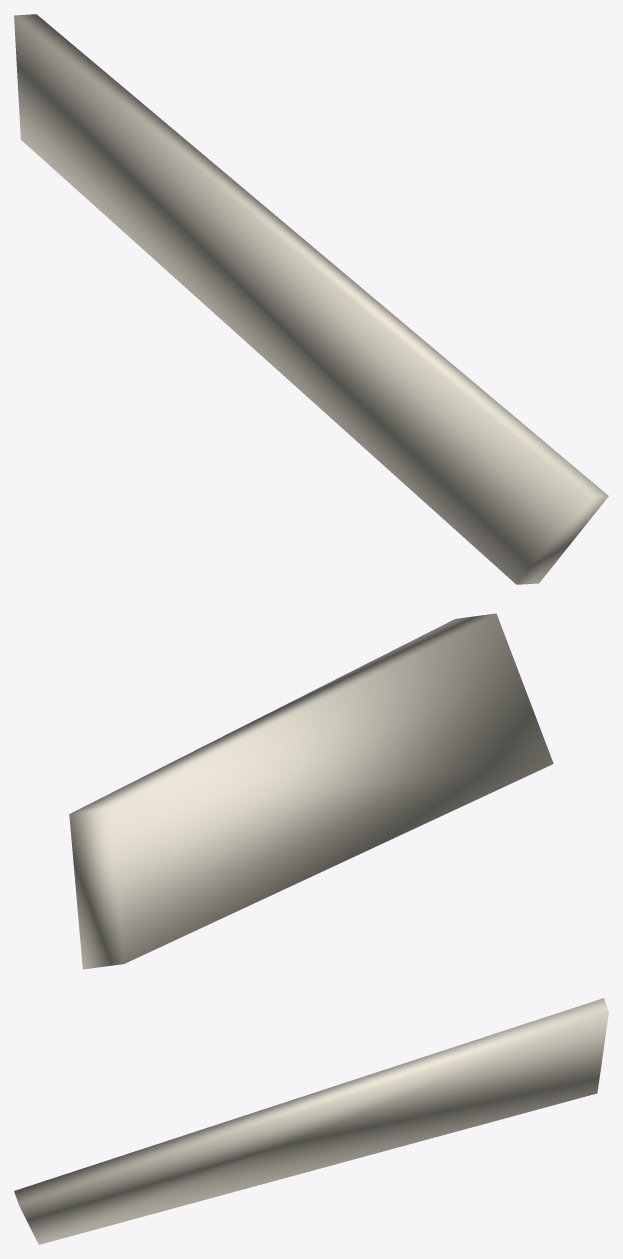
3 views of the same model, one above another, from view 1: azimuth 30°, elevation 25°; view 2: azimuth 150°, elevation 25°; view 3: azimuth 270°, elevation 25° (orthographic). The views are drawn at different scales.
Visible parts, largest first — view 1: ZA_fa2248fabc8c30ab; view 2: ZA_fa2248fabc8c30ab; view 3: ZA_fa2248fabc8c30ab.
Part boxes in pixels (box(x1,y1,x2,y2)): ZA_fa2248fabc8c30ab: box(14, 14, 608, 584); ZA_fa2248fabc8c30ab: box(69, 613, 553, 969); ZA_fa2248fabc8c30ab: box(14, 998, 608, 1244).
Size of the model in its own units: 0.00313 by 0.00511 by 0.0133.
